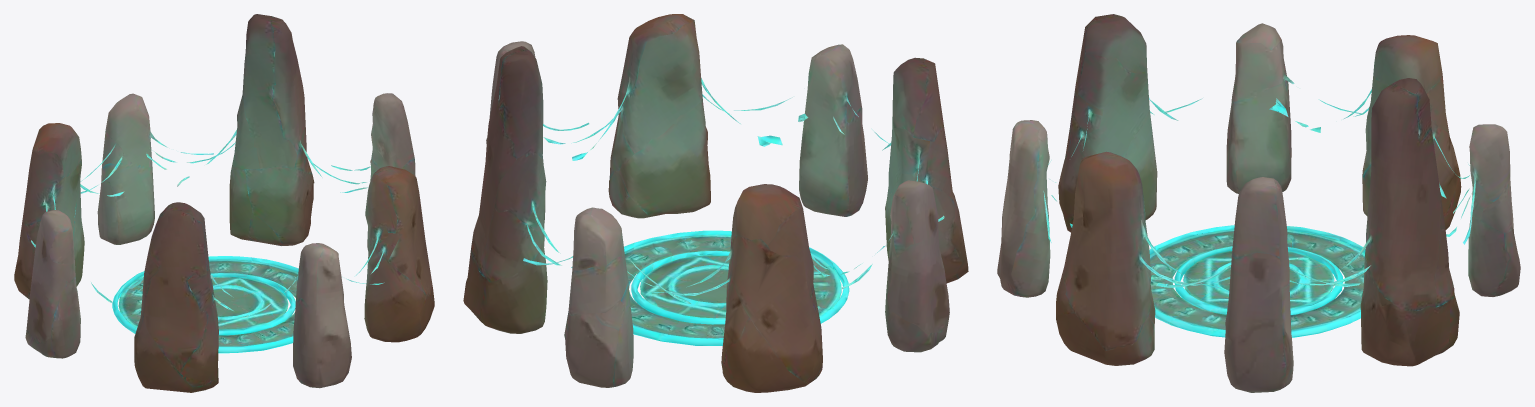
File: sanctuary_altar.glb
3 renders of one model, left to right at view 1: azimuth 30°, elevation 25°; view 2: azimuth 150°, elevation 25°; view 3: azimuth 270°, elevation 25°, orthographic. The views are drawn at different scales.
Bounding box in the file's own units: 1.88 × 1.07 × 1.9.
Materials: 1 (1 with a texture image).
